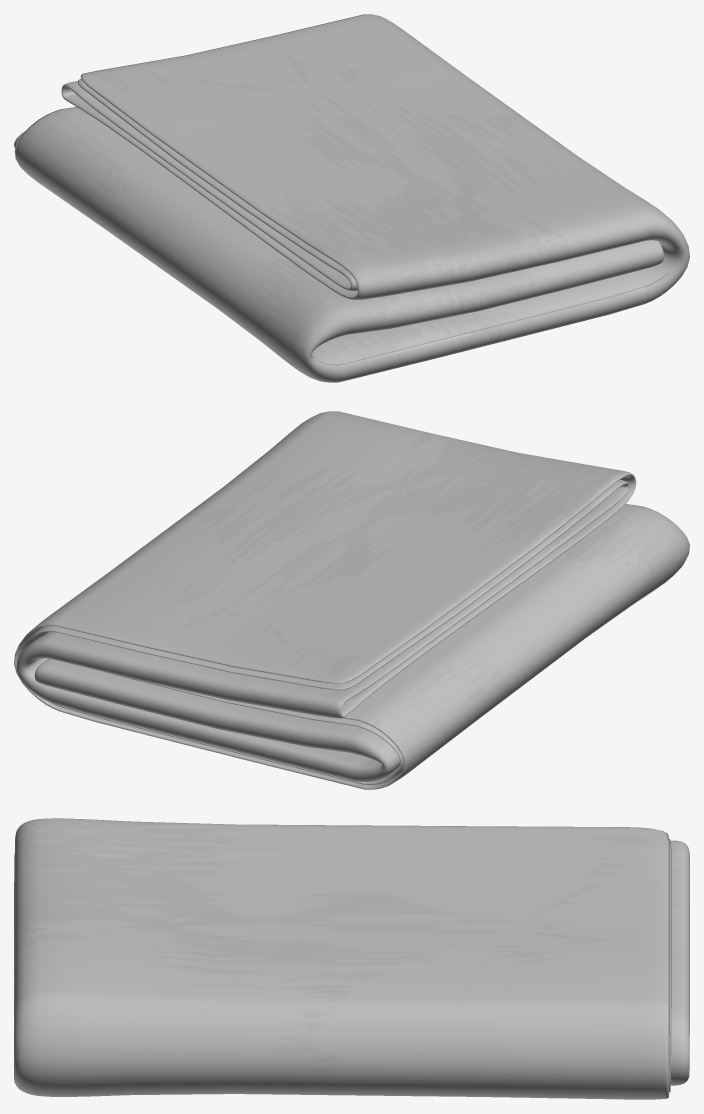
Rendered from clothbai.fbx.
3 views of the same model, one above another, from view 1: azimuth 30°, elevation 25°; view 2: azimuth 150°, elevation 25°; view 3: azimuth 270°, elevation 25° (orthographic). The views are drawn at different scales.
Parts seen in each view (by area): view 1: whitecloth_BAKED; view 2: whitecloth_BAKED; view 3: whitecloth_BAKED.
Part boxes in pixels (x1=…): whitecloth_BAKED: x1=14, y1=14, x2=689, y2=382; whitecloth_BAKED: x1=14, y1=411, x2=689, y2=789; whitecloth_BAKED: x1=14, y1=818, x2=689, y2=1099.
Bounding box in the file's own units: 18.65 × 4.94 × 24.43.
